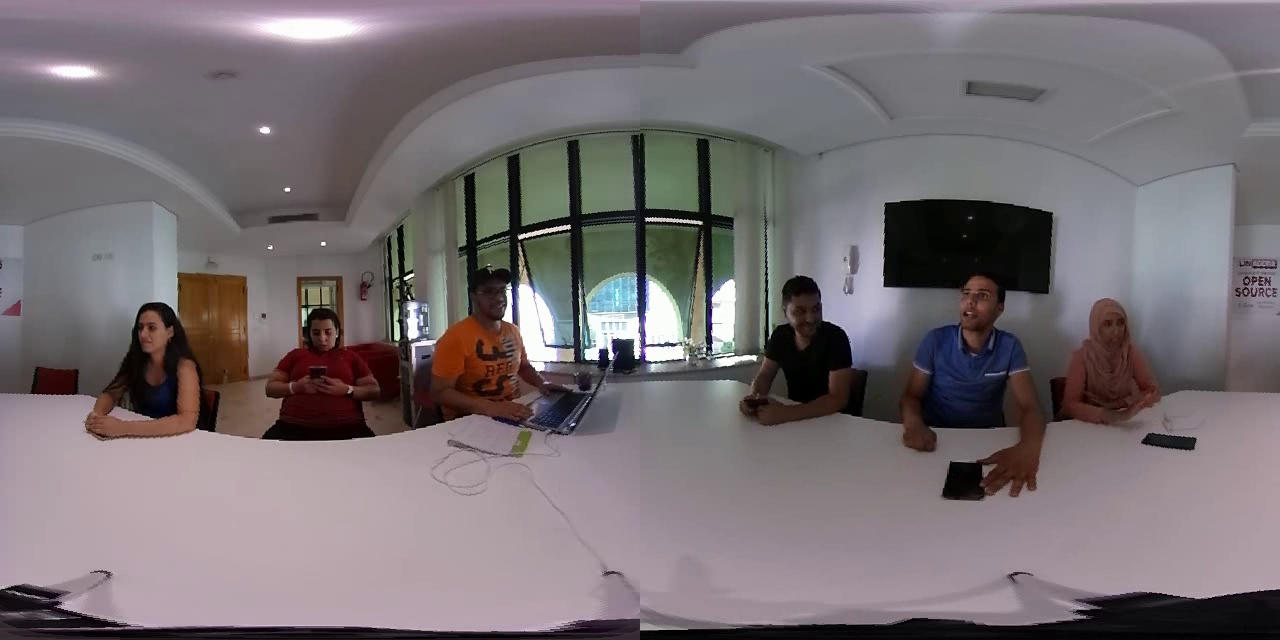person: (896, 264, 1046, 496), (425, 259, 573, 428), (80, 293, 216, 443), (738, 272, 858, 442), (1059, 282, 1174, 437), (259, 304, 386, 438)
